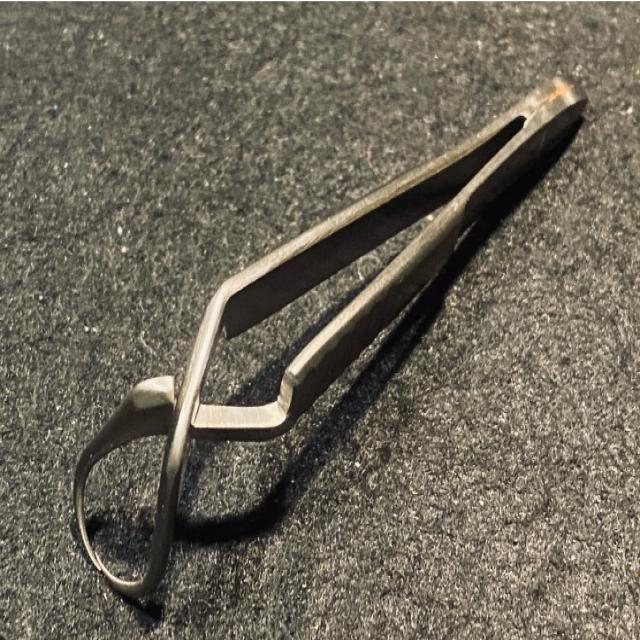Jones Towel Clamp: (68, 62, 588, 599)
